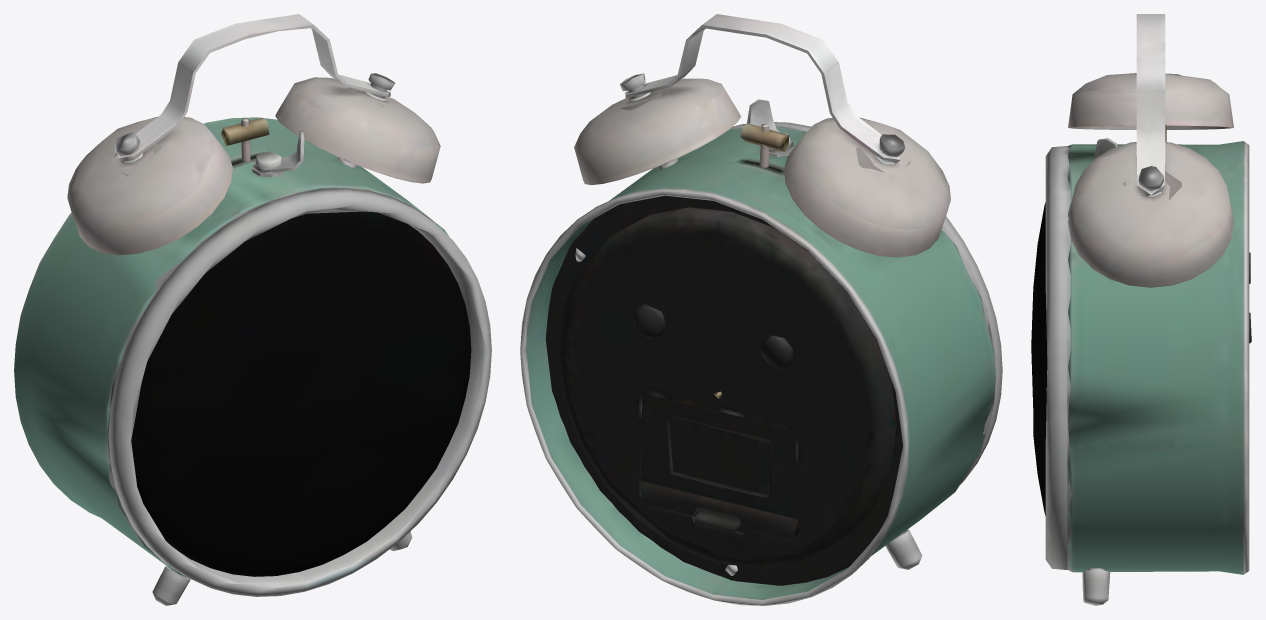
Rendered from alarm_clock_01.lite.glb.
The picture shows the model from 3 angles, left to right: view 1: azimuth 30°, elevation 25°; view 2: azimuth 150°, elevation 25°; view 3: azimuth 270°, elevation 25°; orthographic projection. The views are drawn at different scales.
Parts seen in each view (by area): view 1: alarm_clock_01; view 2: alarm_clock_01; view 3: alarm_clock_01.
Part boxes in pixels (x1,y1,x2,y2): alarm_clock_01: [14, 14, 491, 605]; alarm_clock_01: [520, 14, 1002, 605]; alarm_clock_01: [1031, 14, 1251, 605].
Size of the model in its own units: 0.1312 by 0.1738 by 0.0666.
2 materials, 2 textured.
